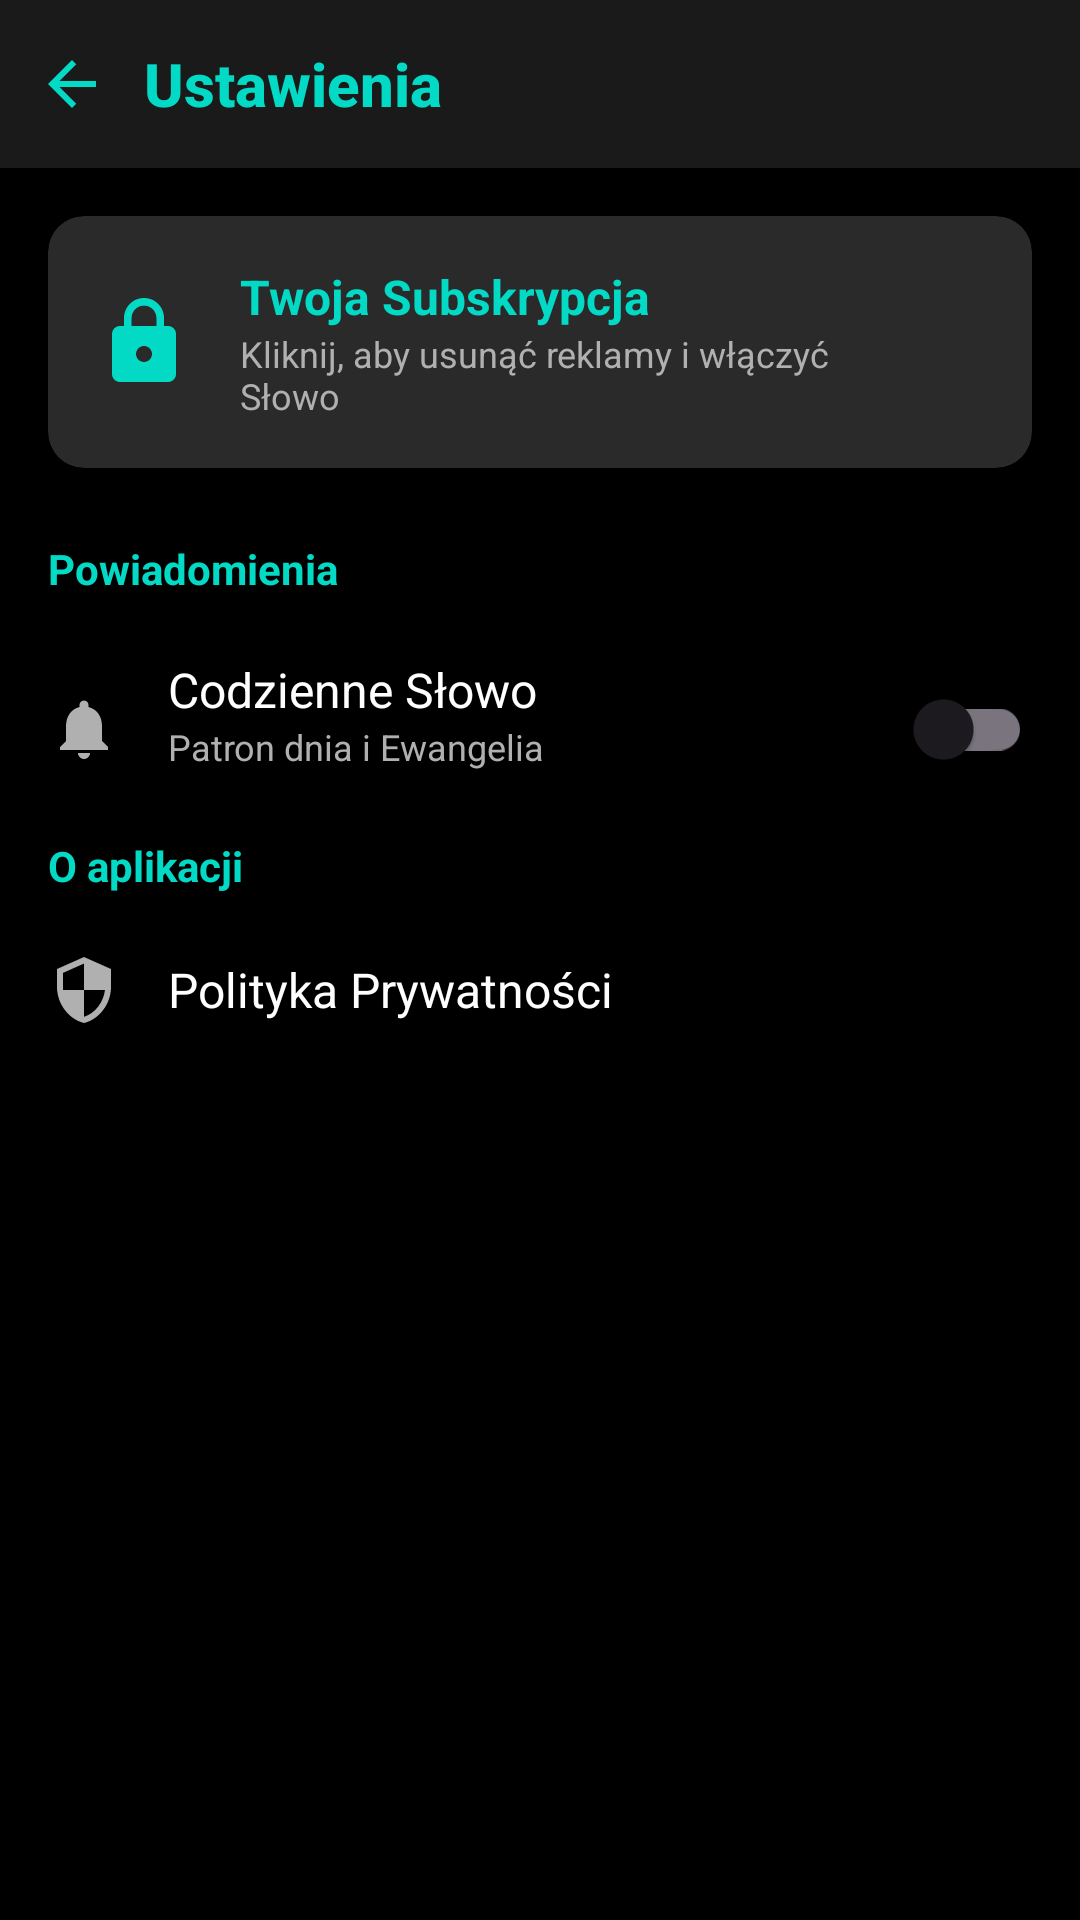

Where icons sit on this 1080×1920 app screen, as detection(x1, y1, x2, y2):
lock: detection(112, 298, 176, 382)
notifications: detection(60, 700, 108, 759)
security: detection(57, 957, 111, 1023)
Wróć: detection(48, 60, 96, 108)
